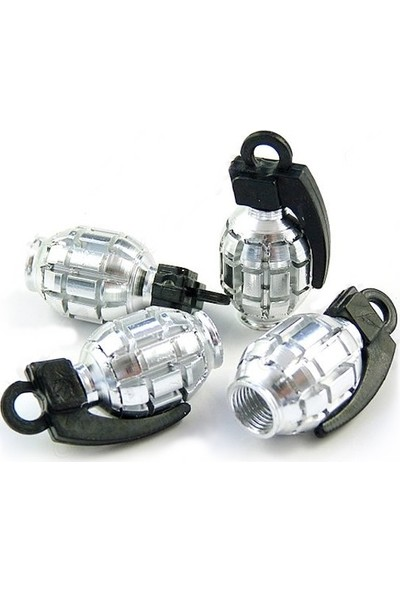e1: (1, 309, 225, 451), (241, 288, 397, 436), (219, 131, 328, 317), (19, 230, 226, 319)
